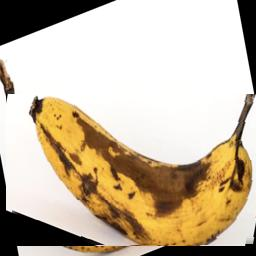Banana Semirotten: (6, 94, 256, 246)
